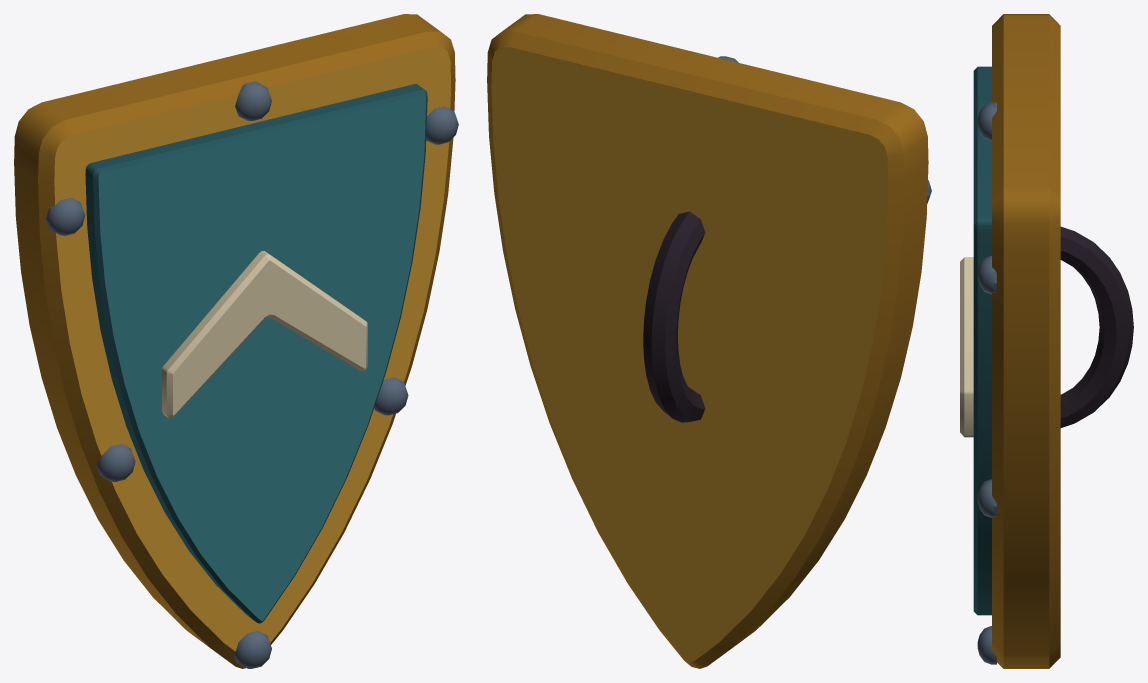
Rendered from HeaterShield_22.glb.
3 views of the same model, side by side, from view 1: azimuth 30°, elevation 25°; view 2: azimuth 150°, elevation 25°; view 3: azimuth 270°, elevation 25° (orthographic). The views are drawn at different scales.
Visible parts, largest first — view 1: HeaterShield_22; view 2: HeaterShield_22; view 3: HeaterShield_22.
Part boxes in pixels (x1,y1,x2,y2): HeaterShield_22: (14,14,458,668); HeaterShield_22: (487,14,931,668); HeaterShield_22: (960,14,1133,668).
Bounding box in the file's own units: 2.01 × 2.73 × 0.76.
